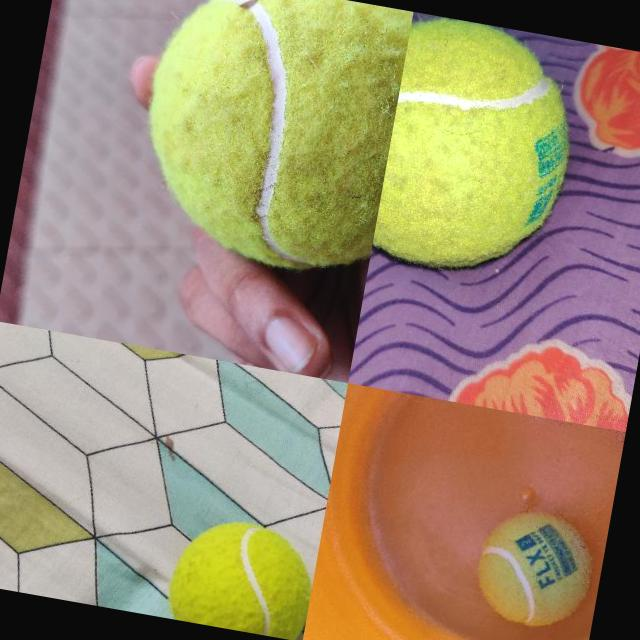Tennis Ball: (121, 0, 412, 281), (370, 12, 591, 288), (164, 509, 320, 640), (469, 503, 599, 634)
